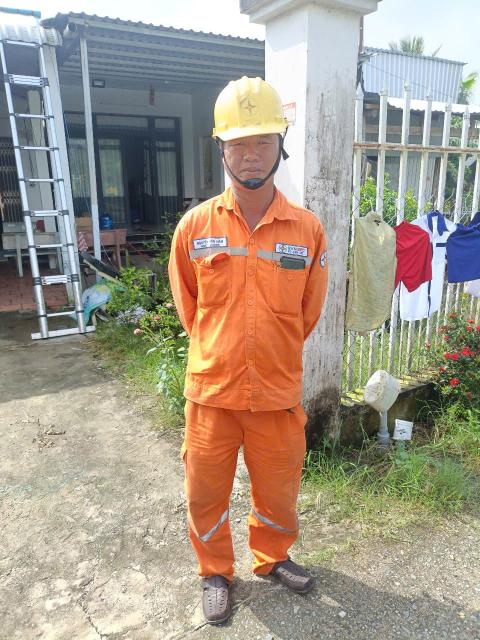helmet: (210, 68, 301, 146)
shoes: (241, 548, 309, 606), (180, 572, 247, 626)
